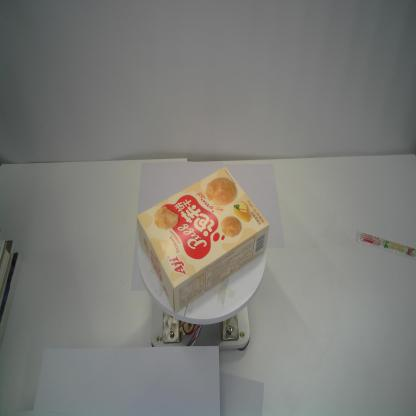Dessert: (136, 165, 270, 315)
